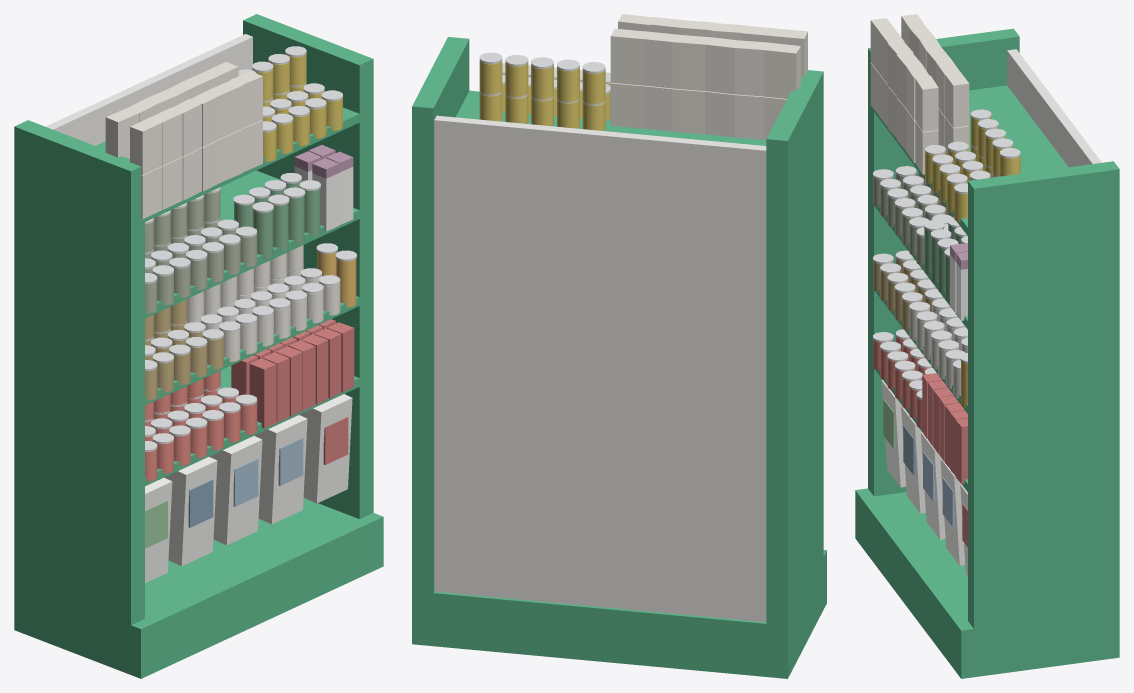
The model's file is minimarket_rack_singleside_stocked_blue.glb.
3 views of the same model, side by side, from view 1: azimuth 30°, elevation 25°; view 2: azimuth 150°, elevation 25°; view 3: azimuth 270°, elevation 25° (orthographic). The views are drawn at different scales.
Parts seen in each view (by area): view 1: Goods, upright_L, plinth, upright_R, back_panel, flour_sack_4, flour_sack_3, flour_sack_2, flour_sack_1, shelf_2, flour_sack_0, shelf_3 (+2 smaller); view 2: back_panel, upright_L, Goods, plinth, upright_R, shelf_3; view 3: upright_R, Goods, plinth, upright_L, shelf_3, back_panel, flour_sack_3, flour_sack_0, flour_sack_1, flour_sack_2.
Part boxes in pixels (x1,y1,x2,y2): Goods: (105, 46, 356, 548); upright_L: (14, 120, 144, 674); plinth: (131, 498, 383, 678); upright_R: (243, 14, 373, 518); back_panel: (46, 34, 252, 145); flour_sack_4: (299, 394, 352, 503); flour_sack_3: (254, 415, 307, 524); flour_sack_2: (209, 436, 262, 545); flour_sack_1: (164, 457, 217, 566); shelf_2: (145, 170, 361, 318); flour_sack_0: (145, 477, 172, 583); shelf_3: (96, 107, 361, 221); back_panel: (434, 115, 766, 622); upright_L: (766, 70, 823, 678); Goods: (479, 14, 807, 139); plinth: (412, 550, 826, 677); upright_R: (412, 37, 469, 645); shelf_3: (456, 90, 766, 145); upright_R: (968, 161, 1119, 677); Goods: (870, 14, 1020, 546); plinth: (855, 488, 1046, 678); upright_L: (868, 28, 1019, 496); shelf_3: (874, 85, 1068, 236); back_panel: (1007, 49, 1101, 167); flour_sack_3: (940, 458, 965, 565); flour_sack_0: (881, 380, 906, 487); flour_sack_1: (901, 406, 925, 513); flour_sack_2: (921, 432, 945, 539).
Bounding box in the file's own units: 1.15 × 1.73 × 0.7952.
